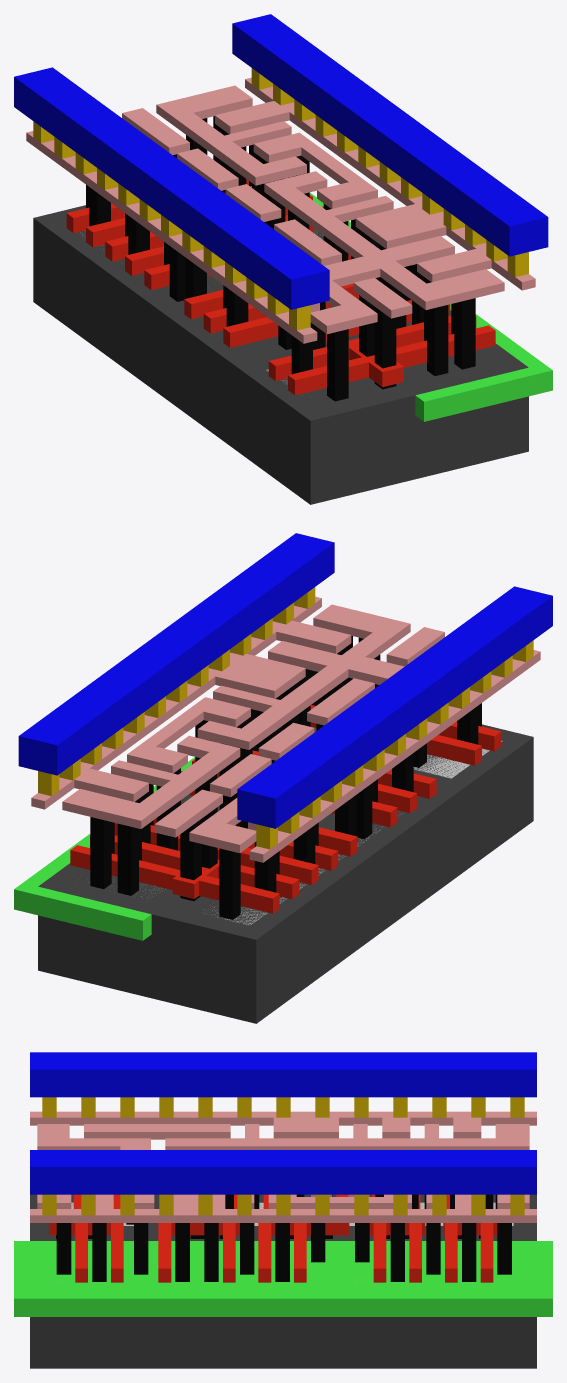
File: sky130_fd_sc_hd__o311ai_2.obj
The picture shows the model from 3 angles, top to bottom: view 1: azimuth 30°, elevation 25°; view 2: azimuth 150°, elevation 25°; view 3: azimuth 270°, elevation 25°; orthographic projection. The views are drawn at different scales.
Parts seen in each view (by area): view 1: subs, metal1, li, licon, poly, mcon, nwell; view 2: subs, metal1, li, licon, poly, mcon, nwell, diff; view 3: metal1, nwell, subs, li, licon, poly, mcon.
Part boxes in pixels (box(x1,y1,x2,y2)): subs: box(33, 205, 528, 504); metal1: box(14, 14, 548, 309); li: box(26, 77, 535, 343); licon: box(86, 116, 475, 401); poly: box(66, 178, 495, 395); mcon: box(33, 68, 528, 330); nwell: box(309, 192, 552, 421); subs: box(38, 724, 533, 1023); metal1: box(18, 533, 552, 828); li: box(31, 596, 540, 862); licon: box(90, 636, 481, 919); poly: box(70, 705, 501, 913); mcon: box(38, 587, 533, 849); nwell: box(14, 757, 195, 940); diff: box(212, 741, 502, 924); metal1: box(30, 1052, 536, 1194); nwell: box(14, 1241, 552, 1316); subs: box(30, 1194, 536, 1368); li: box(30, 1111, 536, 1222); licon: box(56, 1194, 511, 1281); poly: box(49, 1194, 497, 1282); mcon: box(42, 1097, 524, 1215).
Bounding box in the file's own units: 3.2 × 2.74 × 6.36.
